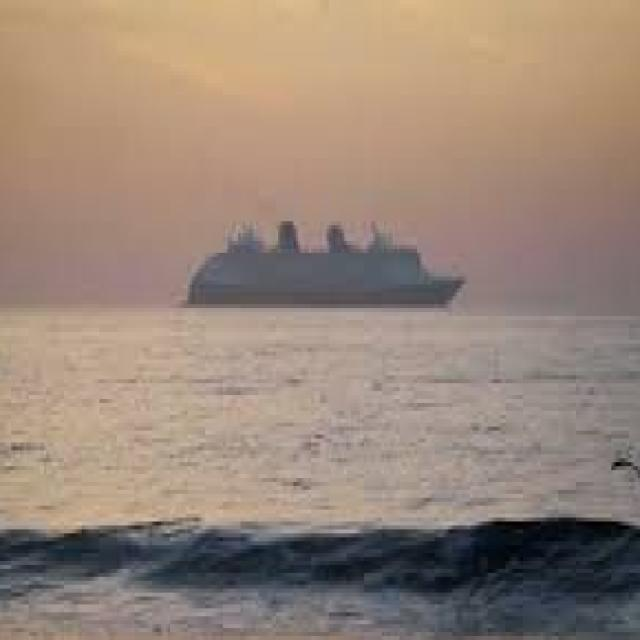cargoship: (193, 182, 460, 292)
